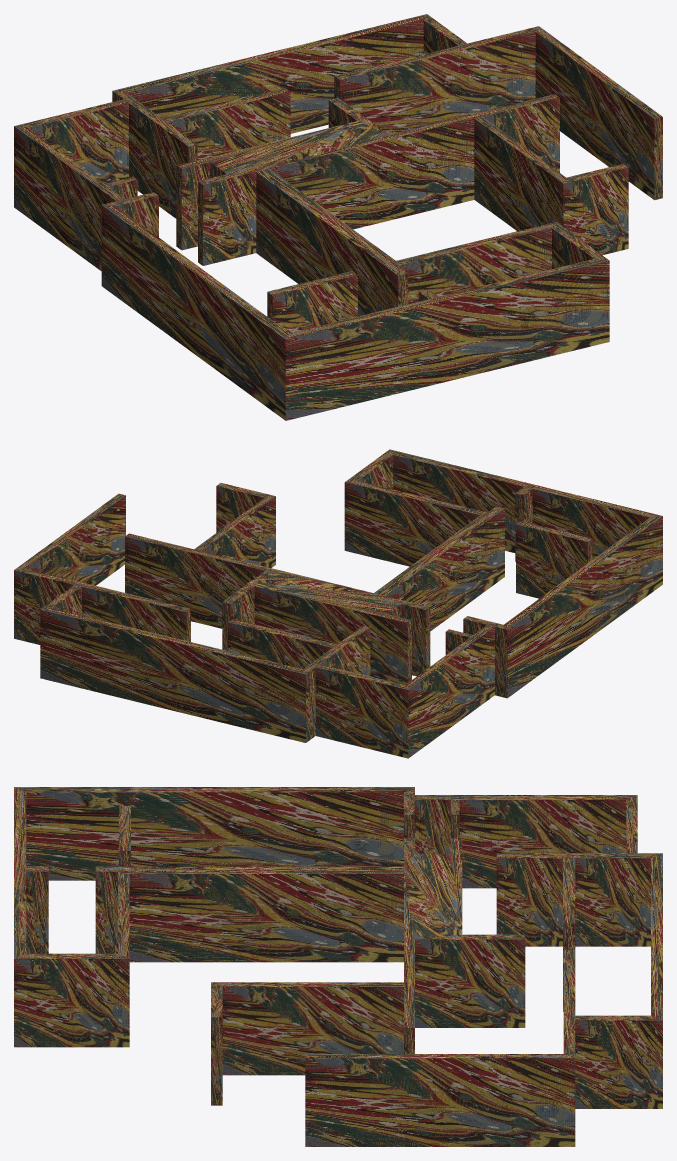
The model's file is maze.obj.
The picture shows the model from 3 angles, top to bottom: view 1: azimuth 30°, elevation 25°; view 2: azimuth 150°, elevation 25°; view 3: azimuth 270°, elevation 25°; orthographic projection. The views are drawn at different scales.
Visible parts, largest first — view 1: 000_Buffer_Layer, 001_Buffer_Layer; view 2: 000_Buffer_Layer, 001_Buffer_Layer; view 3: 000_Buffer_Layer, 001_Buffer_Layer.
Part boxes in pixels (left/top/right/bottom): 000_Buffer_Layer: left=14, top=14, right=662, bottom=420; 001_Buffer_Layer: left=267, top=271, right=357, bottom=332; 000_Buffer_Layer: left=14, top=449, right=662, bottom=758; 001_Buffer_Layer: left=516, top=521, right=592, bottom=598; 000_Buffer_Layer: left=14, top=787, right=662, bottom=1146; 001_Buffer_Layer: left=119, top=806, right=130, bottom=866.
Size of the model in its own units: 93.14 by 14.15 by 94.17.
